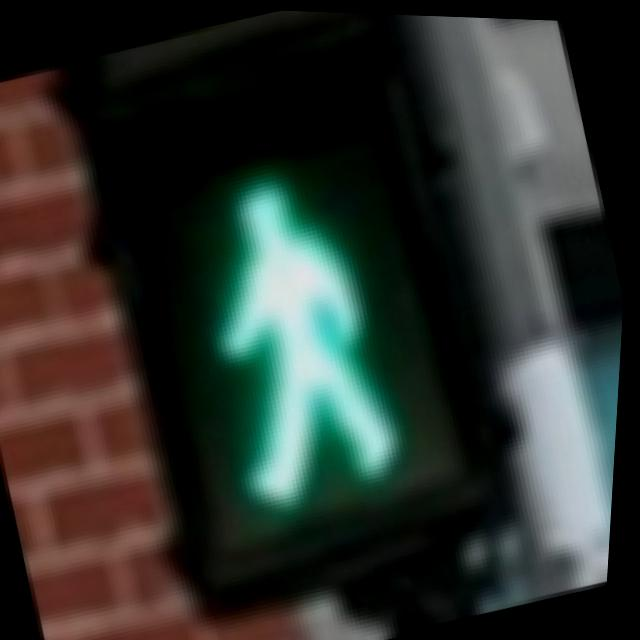green_light: (86, 63, 533, 581)
